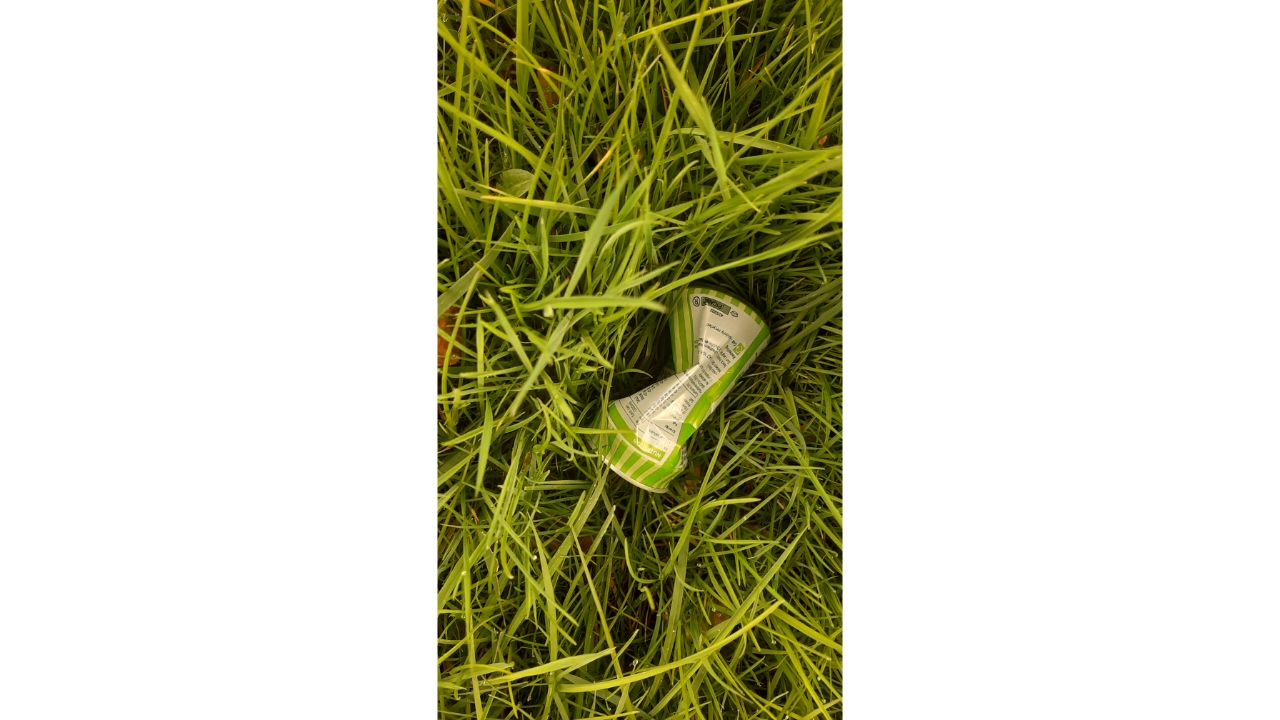Can: (571, 278, 782, 503)
